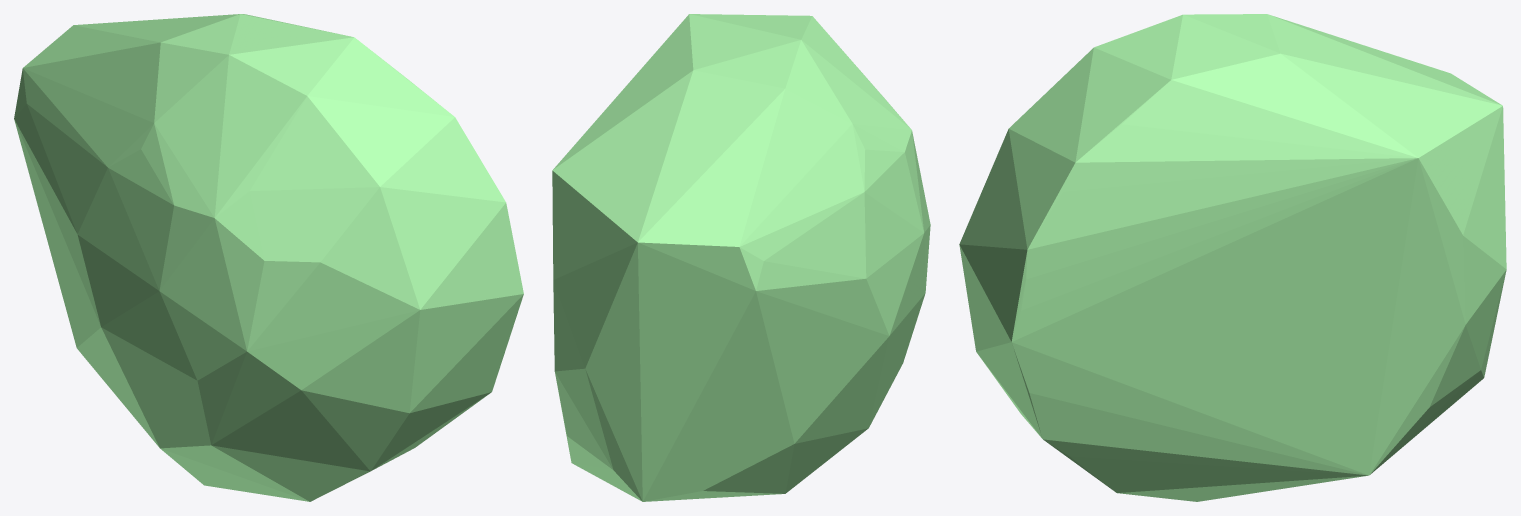
Rendered from Panda_link5_respondable_coll_3.dae.
3 views of the same model, side by side, from view 1: azimuth 30°, elevation 25°; view 2: azimuth 150°, elevation 25°; view 3: azimuth 270°, elevation 25° (orthographic).
Visible parts, largest first — view 1: Node_0x7f9e89fec100; view 2: Node_0x7f9e89fec100; view 3: Node_0x7f9e89fec100.
Boxes of the visible parts, x1=… form: Node_0x7f9e89fec100: x1=14, y1=14, x2=523, y2=501; Node_0x7f9e89fec100: x1=552, y1=14, x2=930, y2=501; Node_0x7f9e89fec100: x1=959, y1=14, x2=1506, y2=501.
Size of the model in its own units: 0.0758 by 0.1014 by 0.1136.
